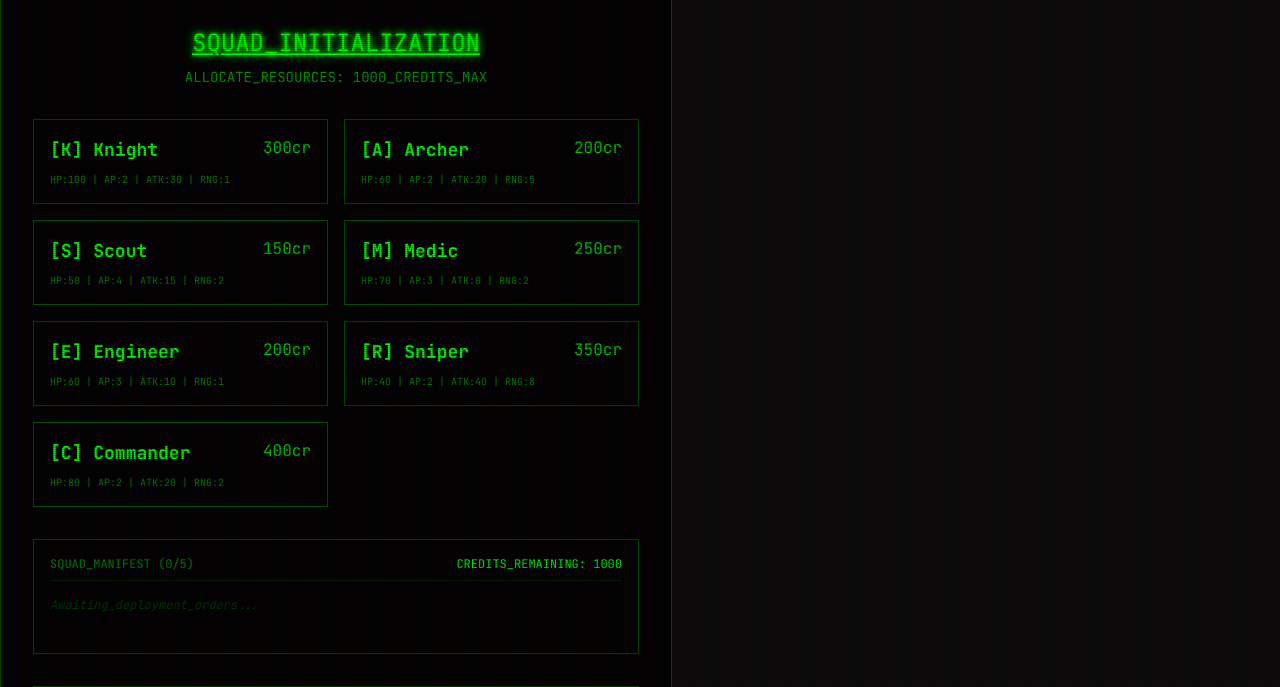
Test case: SquadBuilder › enables deploy button when squad has 2+ units
This screenshot has width=1280, height=687.
Click the button "[K] Knight 300cr HP:100 | AP:2 | ATK:30 | RNG:1" at (126,150), box [33, 119, 328, 204]
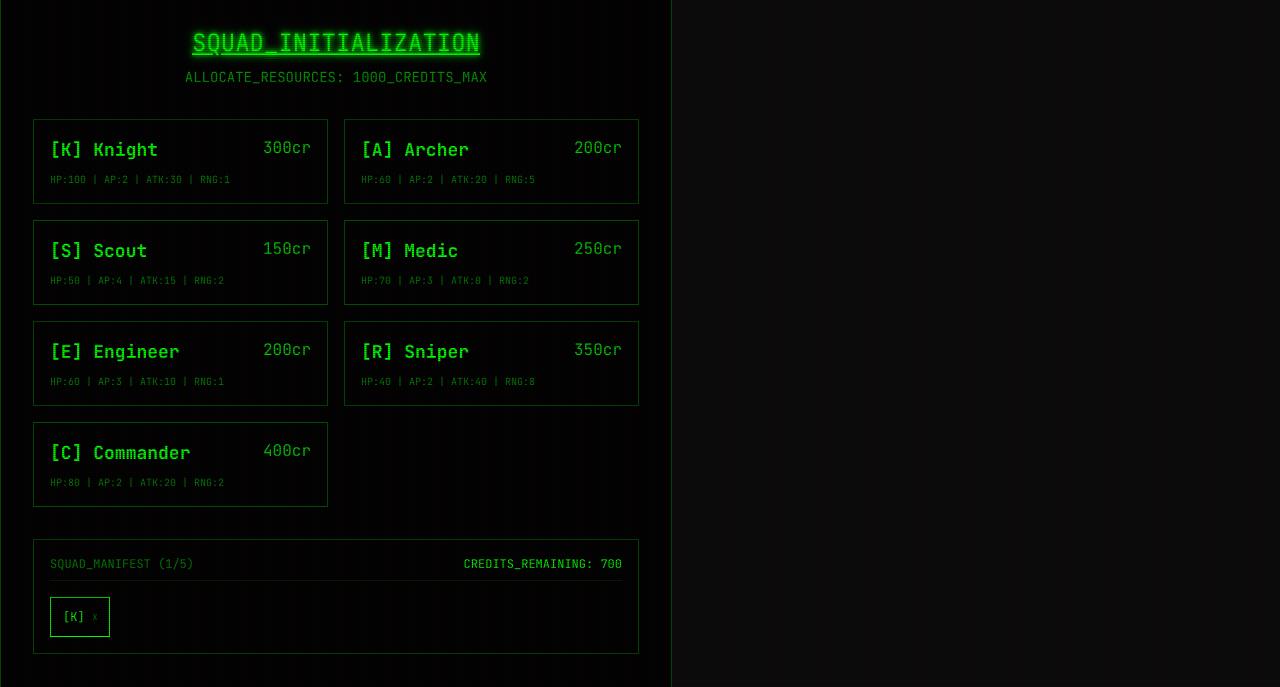
Click the button "[A] Archer 200cr HP:60 | AP:2 | ATK:20 | RNG:5" at (437,150), box [344, 119, 639, 204]
(page scrolled)
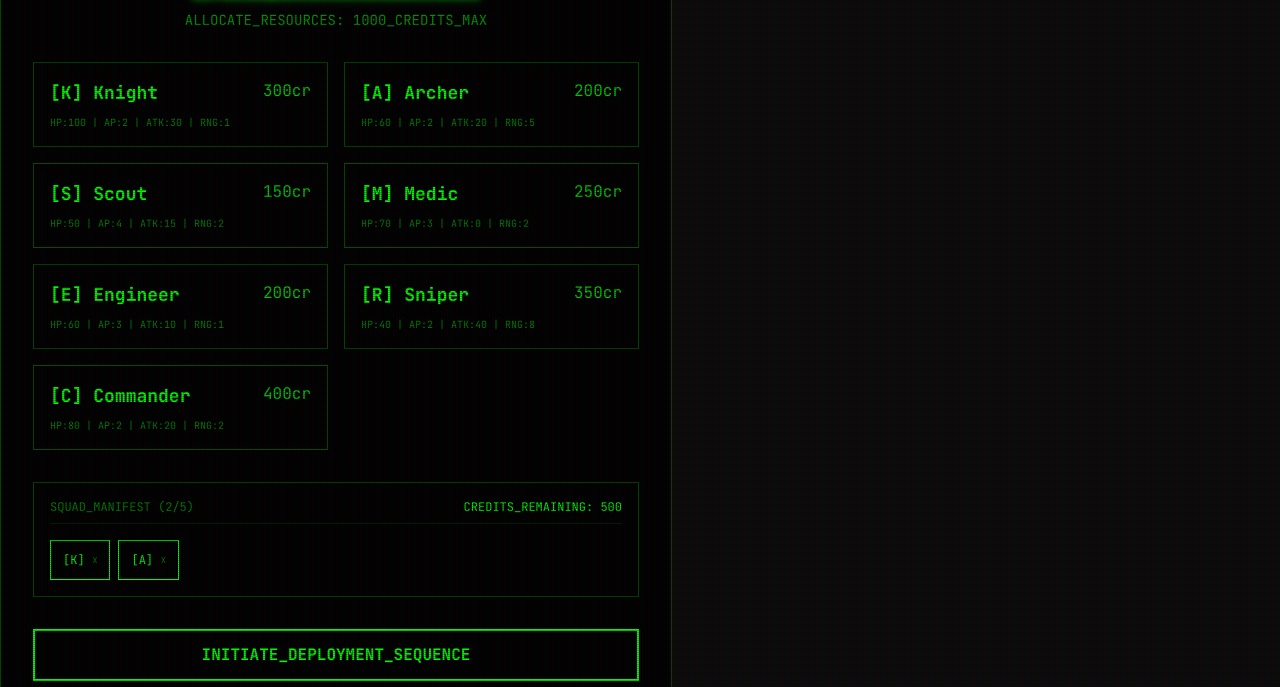
expect the button "Initiate_Deployment_Sequence" is enabled: met, box [33, 629, 639, 681]
